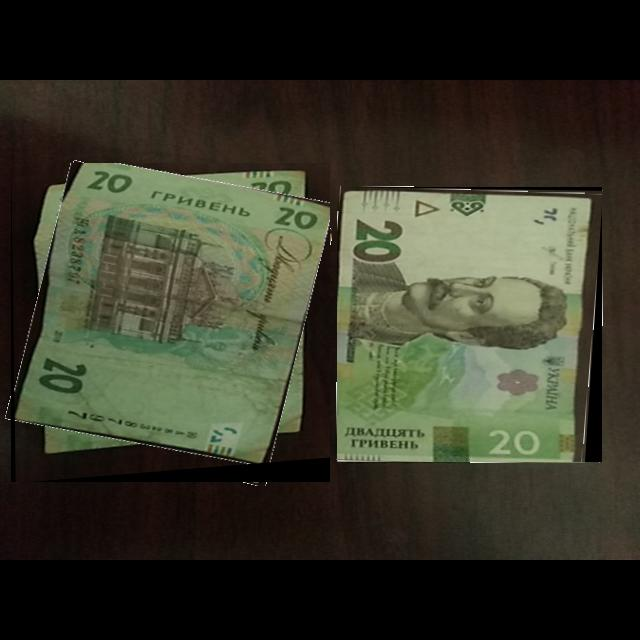20uah: (14, 163, 331, 467), (337, 187, 603, 463)
